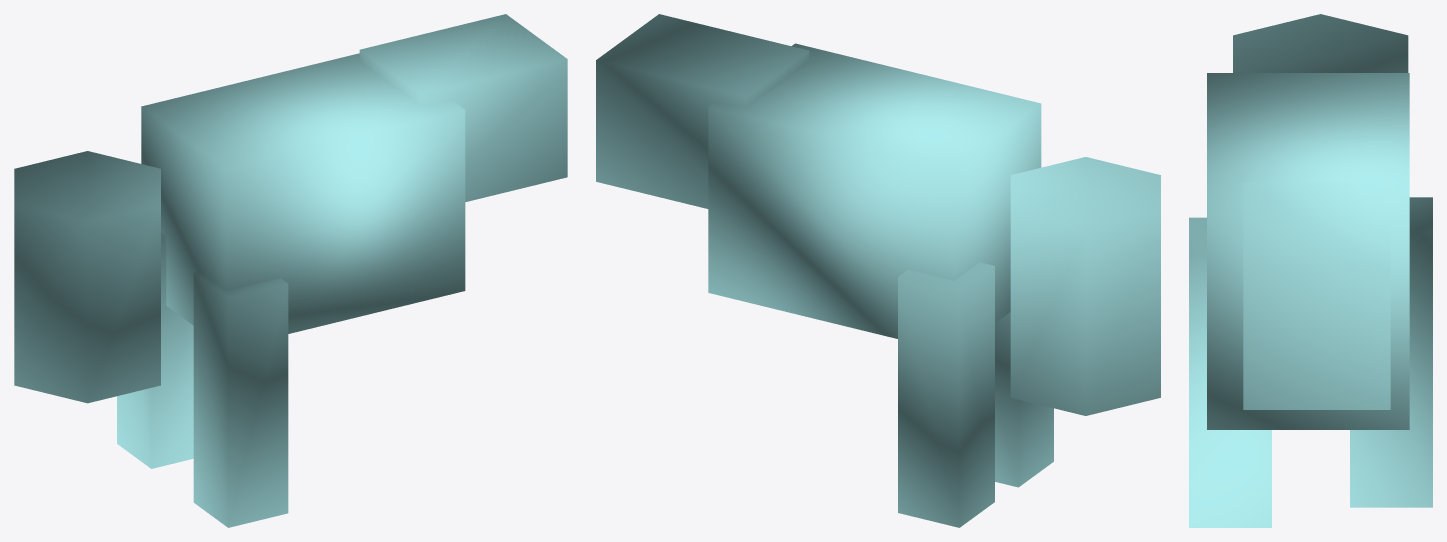
Rendered from ps2_jrpg_enemy_lair_spawn_marker.obj.
3 views of the same model, side by side, from view 1: azimuth 30°, elevation 25°; view 2: azimuth 150°, elevation 25°; view 3: azimuth 270°, elevation 25° (orthographic). The views are drawn at different scales.
Bounding box in the file's own units: 1.57 × 1.05 × 0.5296.
